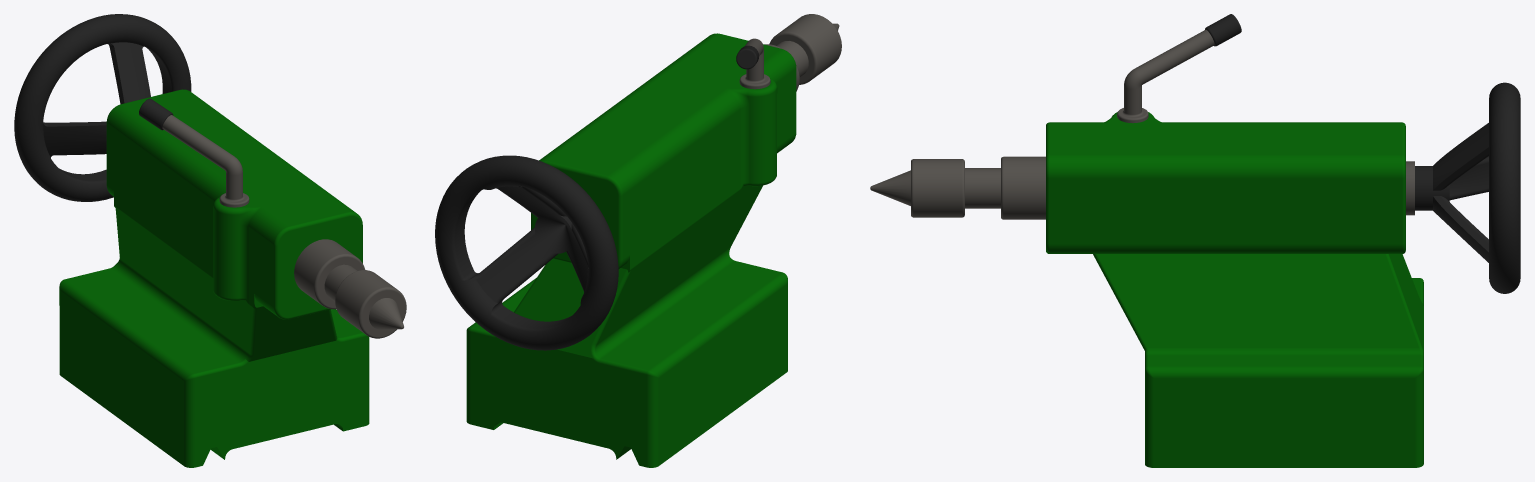
Rendered from ponto.fbx.
The picture shows the model from 3 angles, left to right: view 1: azimuth 30°, elevation 25°; view 2: azimuth 150°, elevation 25°; view 3: azimuth 270°, elevation 25°; orthographic projection. The views are drawn at different scales.
Parts seen in each view (by area): view 1: 3DGeom~115, Body_1_2, Body_1, 3DGeom~114, 3DGeom~116; view 2: 3DGeom~115, Body_1_2, Body_1, 3DGeom~114, 3DGeom~116; view 3: 3DGeom~115, Body_1_2, Body_1, 3DGeom~114, 3DGeom~116.
Part boxes in pixels (x1,y1,x2,y2): 3DGeom~115: [59, 89, 369, 467]; Body_1_2: [14, 14, 191, 201]; Body_1: [294, 239, 406, 338]; 3DGeom~114: [162, 115, 249, 207]; 3DGeom~116: [139, 98, 173, 130]; 3DGeom~115: [466, 33, 796, 467]; Body_1_2: [435, 155, 618, 350]; Body_1: [764, 14, 841, 91]; 3DGeom~114: [739, 38, 770, 89]; 3DGeom~116: [736, 45, 759, 69]; 3DGeom~115: [1046, 112, 1423, 467]; Body_1_2: [1415, 82, 1520, 293]; Body_1: [870, 156, 1045, 219]; 3DGeom~114: [1117, 29, 1414, 215]; 3DGeom~116: [1205, 14, 1241, 46].
Bounding box in the file's own units: 0.2607 × 0.7225 × 0.4398.
